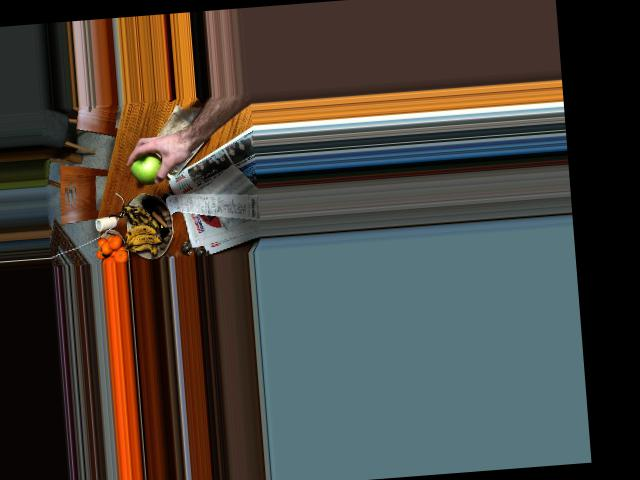apple: (127, 151, 165, 183)
